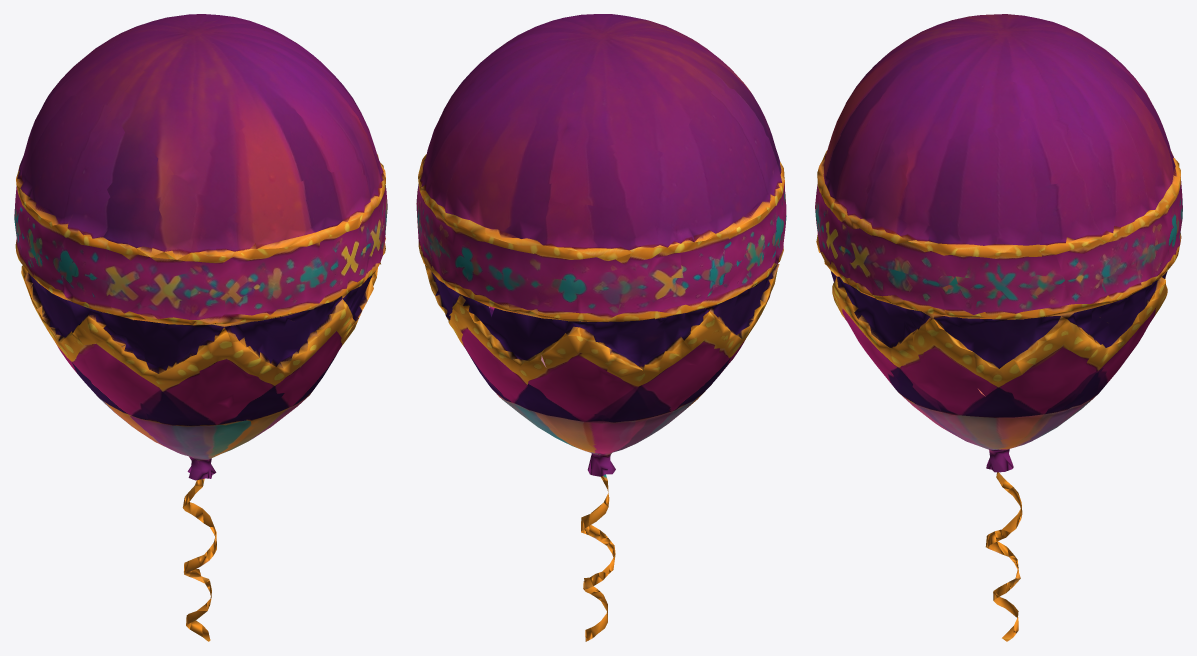
The model's file is BalaoPenalidade5k.glb.
The picture shows the model from 3 angles, left to right: view 1: azimuth 30°, elevation 25°; view 2: azimuth 150°, elevation 25°; view 3: azimuth 270°, elevation 25°; orthographic projection.
Parts seen in each view (by area): view 1: mesh_node; view 2: mesh_node; view 3: mesh_node.
Boxes of the visible parts, bbox=[...] form: mesh_node: bbox=[14, 14, 387, 641]; mesh_node: bbox=[416, 14, 786, 641]; mesh_node: bbox=[815, 14, 1182, 641].
Size of the model in its own units: 1.05 by 1.9 by 1.05.
1 material, 1 textured.
